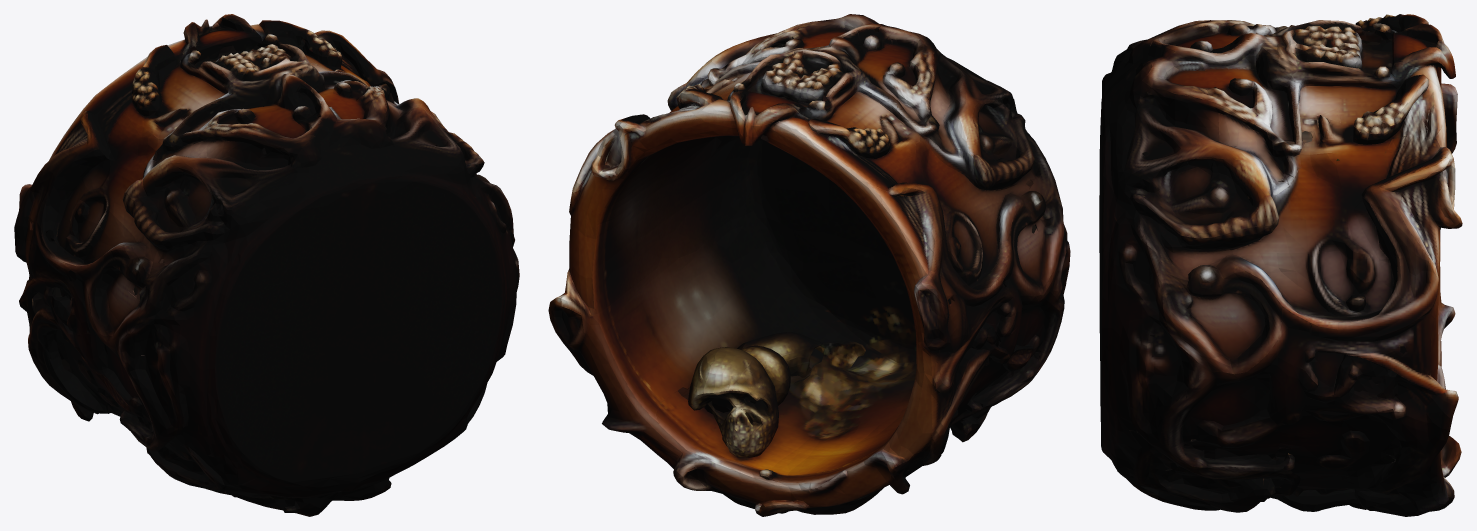
File: wooden-napkin-ring-horror.jpeg.glb
3 views of the same model, side by side, from view 1: azimuth 30°, elevation 25°; view 2: azimuth 150°, elevation 25°; view 3: azimuth 270°, elevation 25° (orthographic). The views are drawn at different scales.
Visible parts, largest first — view 1: world; view 2: world; view 3: world.
Part boxes in pixels (x1,y1,x2,y2): world: (14, 14, 519, 516); world: (548, 14, 1070, 516); world: (1099, 14, 1462, 516).
Size of the model in its own units: 0.9965 by 0.9927 by 0.7141.
Materials: 1 (1 with a texture image).
